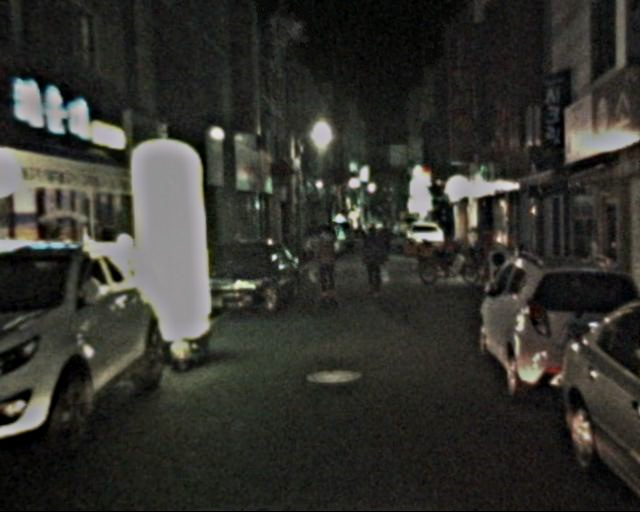person: (312, 223, 344, 300), (356, 223, 388, 300)
